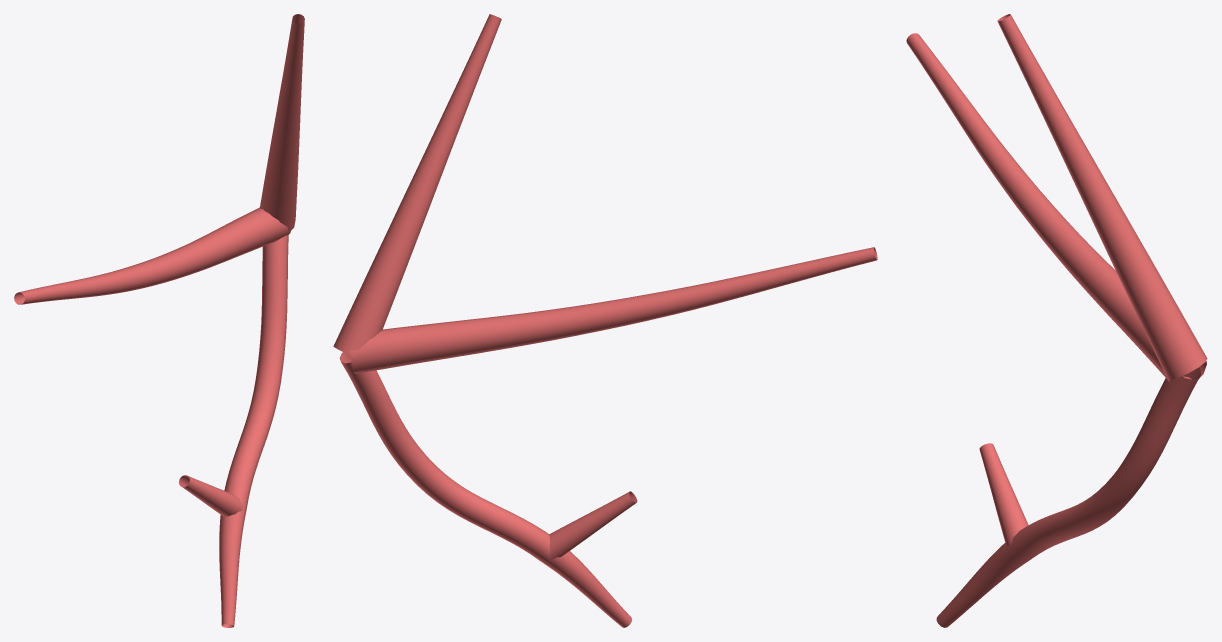
Rendered from Mental_branch_inferior_alveolar_artery_left.glb.
3 views of the same model, side by side, from view 1: azimuth 30°, elevation 25°; view 2: azimuth 150°, elevation 25°; view 3: azimuth 270°, elevation 25° (orthographic). The views are drawn at different scales.
Parts seen in each view (by area): view 1: Mental_branch_of_inferior_alveolar_artery.l_BezierCurve.090; view 2: Mental_branch_of_inferior_alveolar_artery.l_BezierCurve.090; view 3: Mental_branch_of_inferior_alveolar_artery.l_BezierCurve.090.
Boxes of the visible parts, <box> form: Mental_branch_of_inferior_alveolar_artery.l_BezierCurve.090: <box>14,14,304,627</box>; Mental_branch_of_inferior_alveolar_artery.l_BezierCurve.090: <box>333,14,877,627</box>; Mental_branch_of_inferior_alveolar_artery.l_BezierCurve.090: <box>906,14,1207,627</box>.
Bounding box in the file's own units: 0.00709 × 0.00983 × 0.00402.
